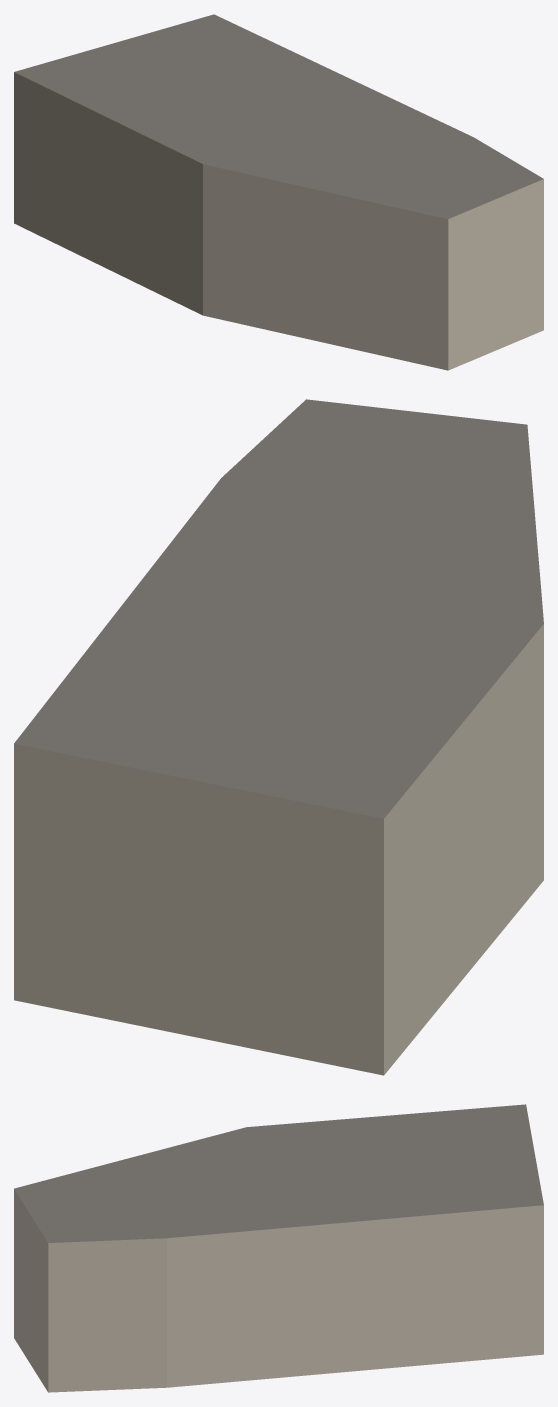
The picture shows the model from 3 angles, top to bottom: view 1: azimuth 30°, elevation 25°; view 2: azimuth 150°, elevation 25°; view 3: azimuth 270°, elevation 25°; orthographic projection. The views are drawn at different scales.
Visible parts, largest first — view 1: HP-w490656158; view 2: HP-w490656158; view 3: HP-w490656158.
Boxes of the visible parts, left/top/right/bottom form: HP-w490656158: left=14, top=14, right=543, bottom=370; HP-w490656158: left=14, top=399, right=543, bottom=1075; HP-w490656158: left=14, top=1104, right=543, bottom=1392.
Size of the model in its own units: 35.82 by 18 by 57.84.
